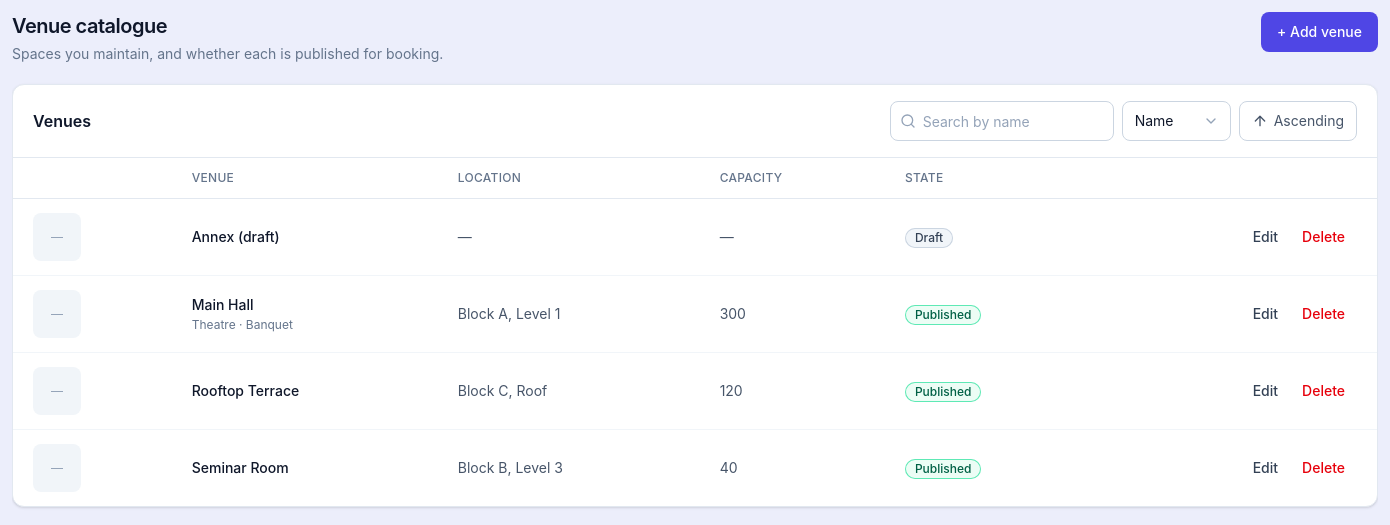
Test: US-15 AC-3: finding a venue without scrolling › says when nothing matches
The width and height of the screenshot is (1390, 525).
Expected: the text "Main Hall" is shown, [192, 296, 254, 313]
Type "zzz" into the search field named "Search venues by name" at (1002, 121), box [890, 101, 1114, 141]
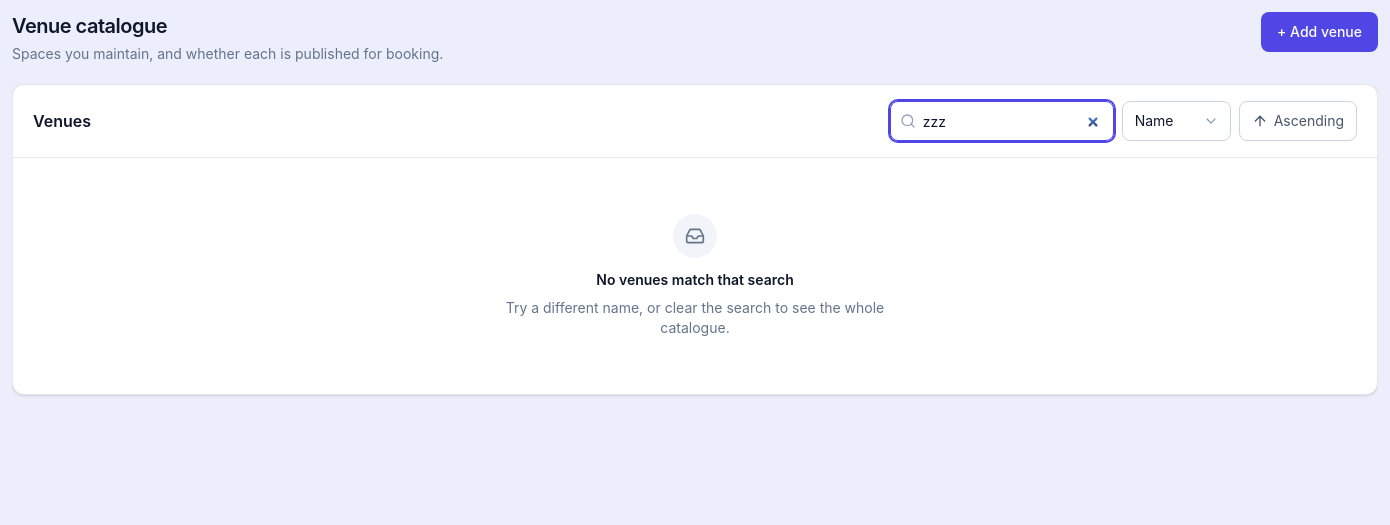
Expected: the heading "No venues match that search" is shown, [596, 270, 794, 290]
